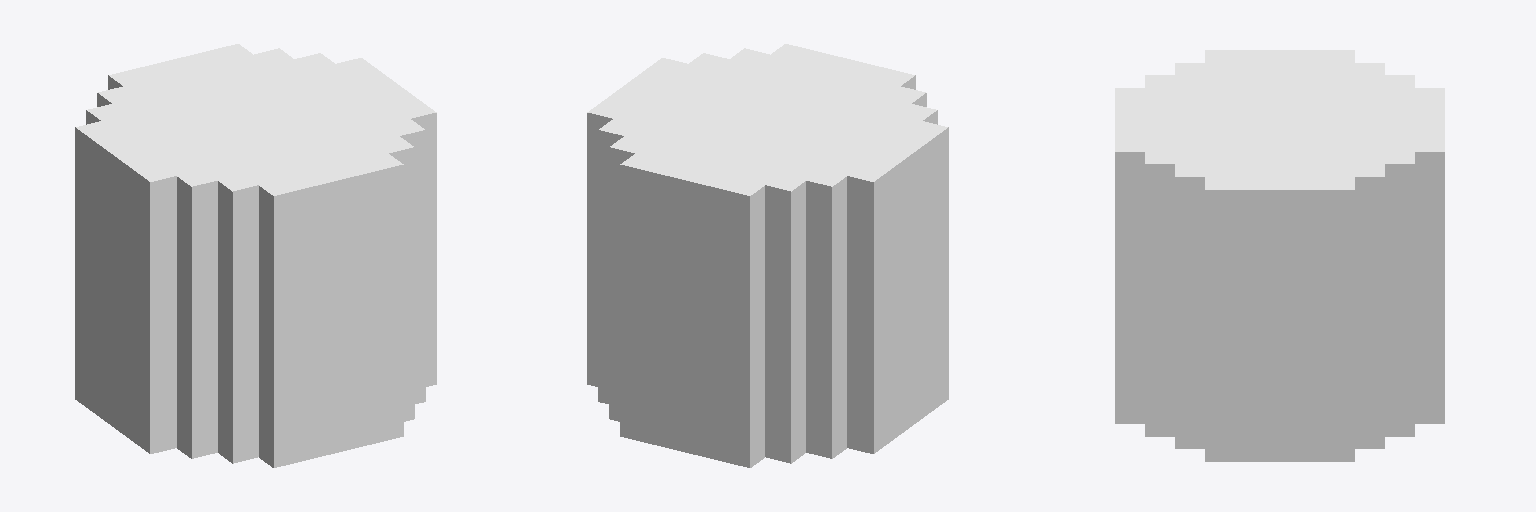
File: StoneColumn.obj
3 renders of one model, left to right at view 1: azimuth 30°, elevation 25°; view 2: azimuth 150°, elevation 25°; view 3: azimuth 270°, elevation 25°, orthographic.
Parts seen in each view (by area): view 1: StoneColumn; view 2: StoneColumn; view 3: StoneColumn.
Part boxes in pixels (x1,y1,x2,y2): StoneColumn: (75,44,436,467); StoneColumn: (587,44,948,467); StoneColumn: (1115,50,1444,461).
Bounding box in the file's own units: 11 × 10 × 11.